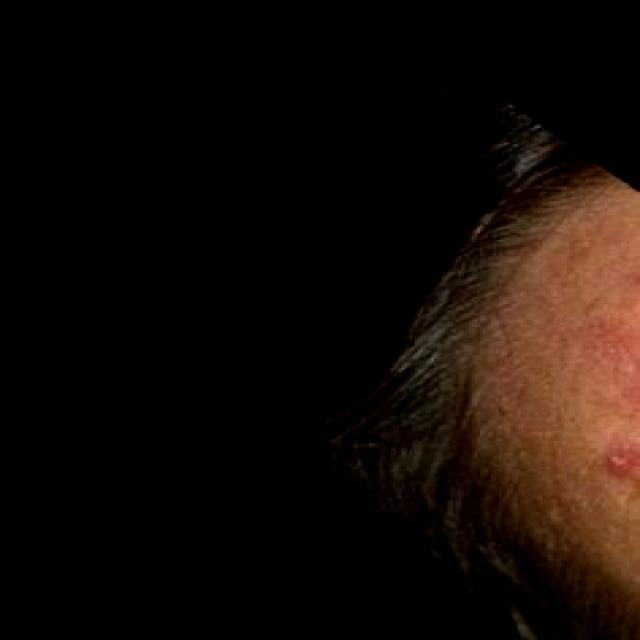Rosacea: (549, 219, 640, 490)
